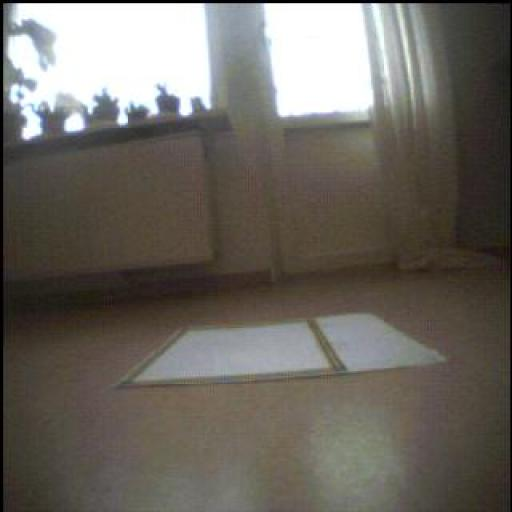Pad: (121, 315, 446, 387), (318, 315, 446, 372)
